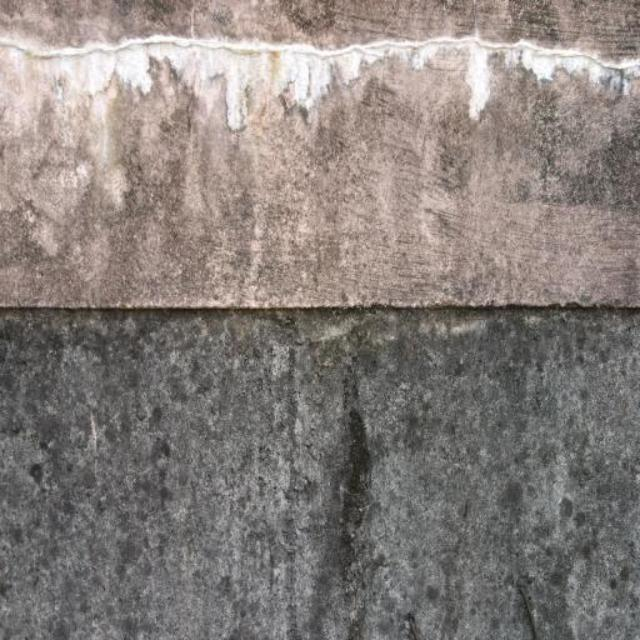D01: (6, 34, 639, 129)
